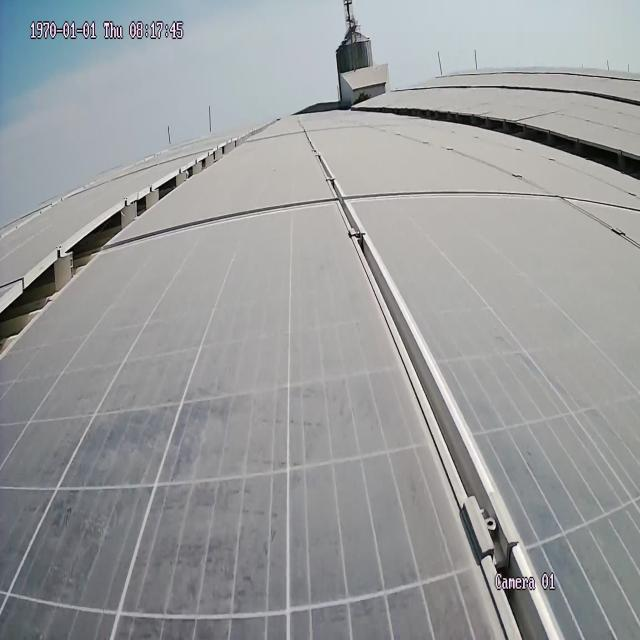interior panel: (303, 130, 543, 626), (119, 180, 613, 255)
outher panel: (2, 133, 252, 356), (391, 101, 631, 189)
